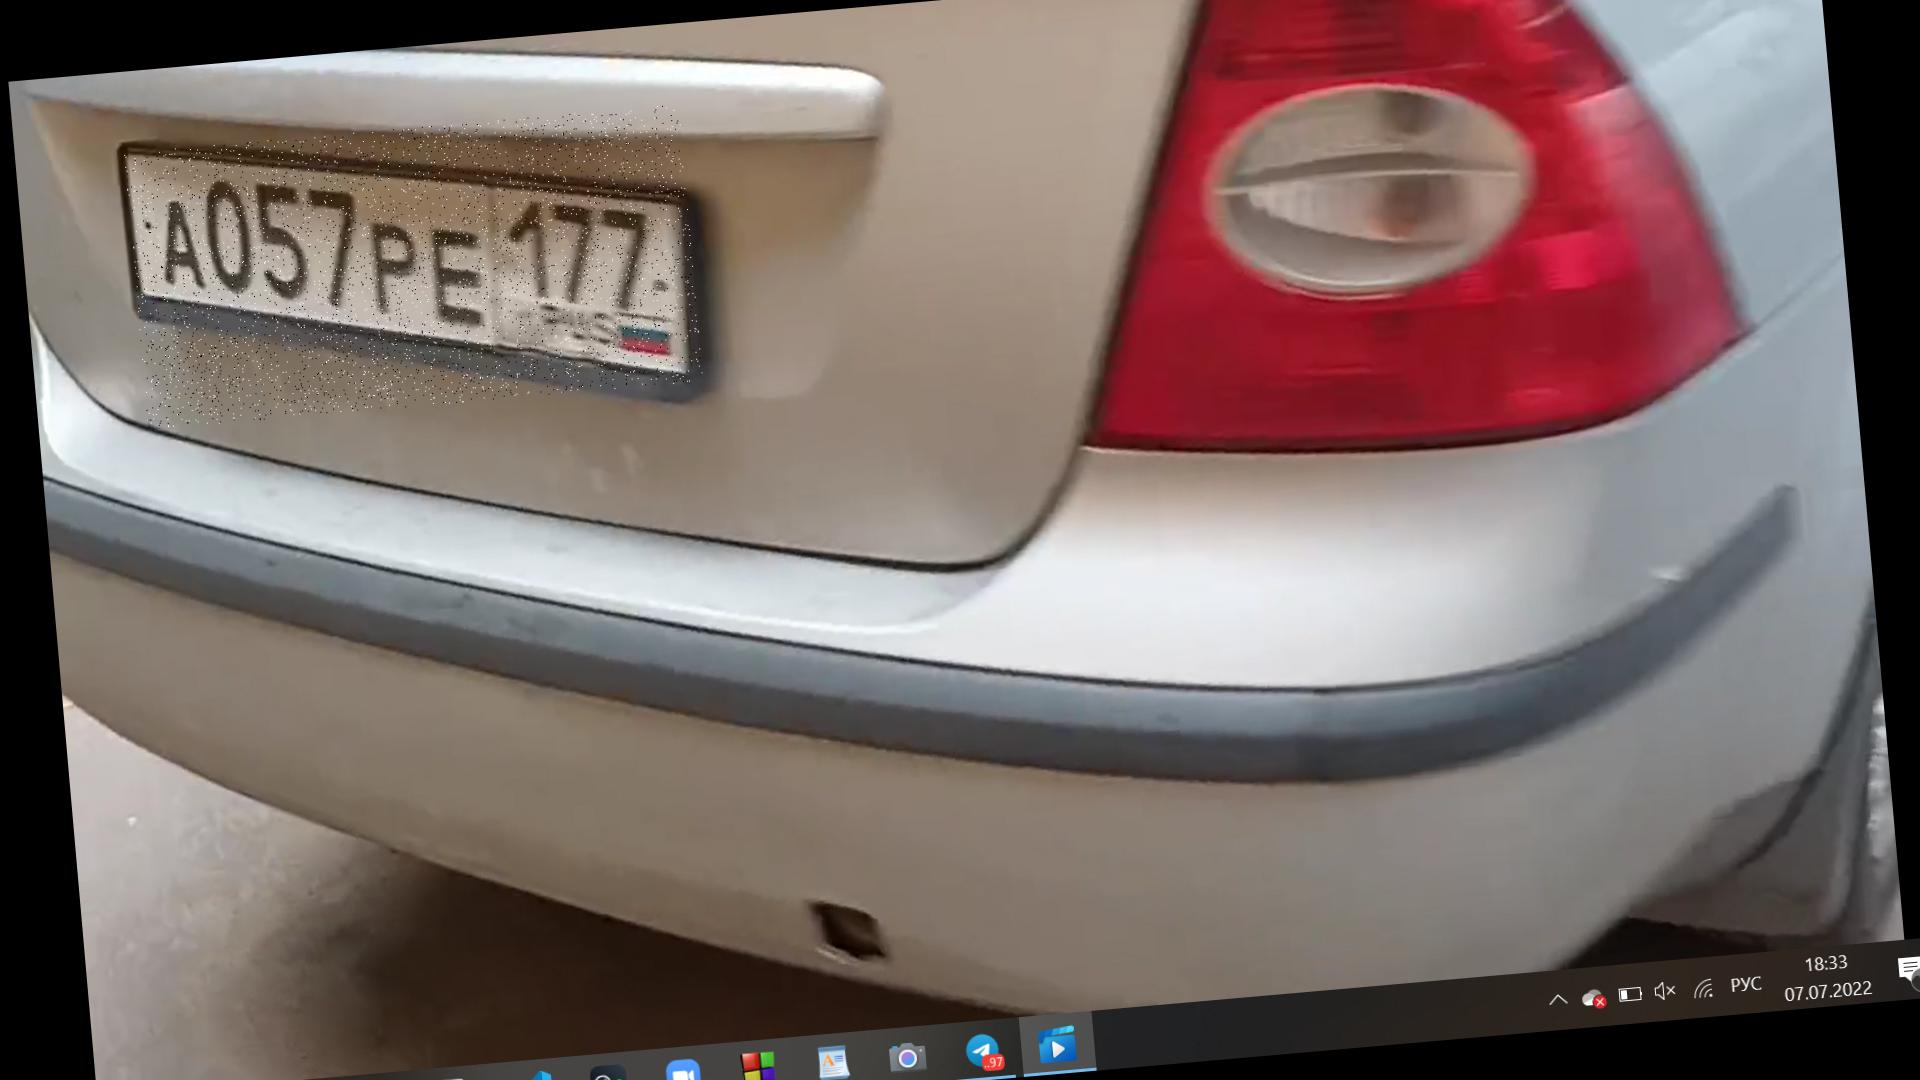plate: (126, 106, 705, 431)
